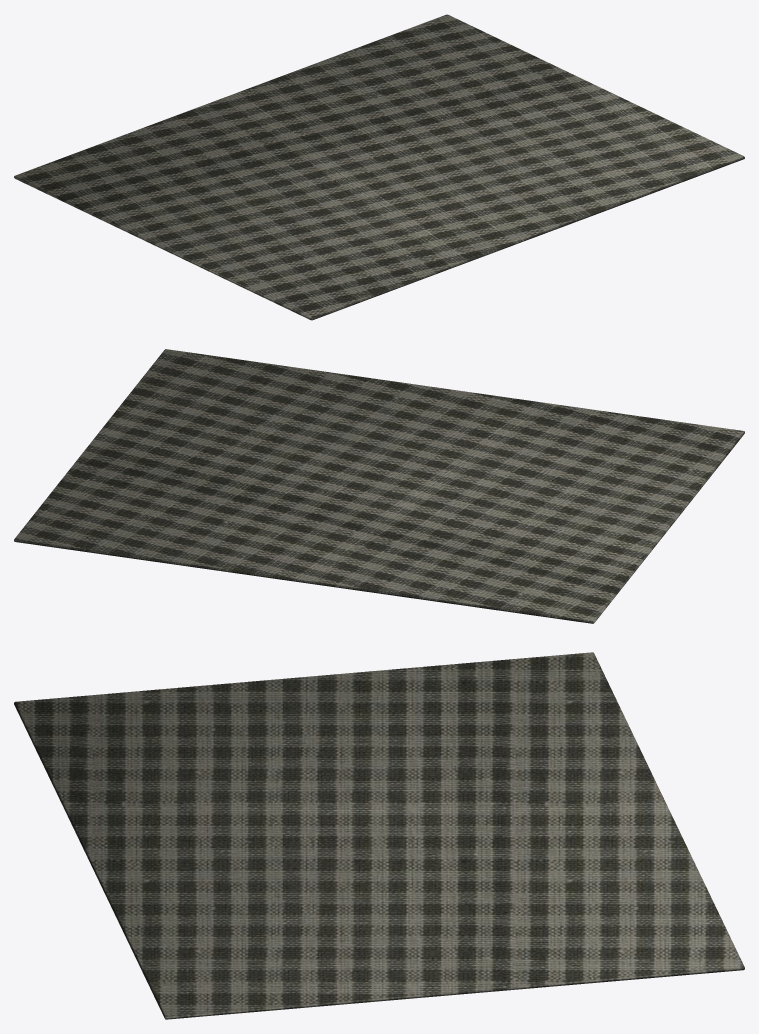
File: drop_cloth.glb
The picture shows the model from 3 angles, top to bottom: view 1: azimuth 30°, elevation 25°; view 2: azimuth 150°, elevation 25°; view 3: azimuth 270°, elevation 25°; orthographic projection. The views are drawn at different scales.
Visible parts, largest first — view 1: Drop cloth; view 2: Drop cloth; view 3: Drop cloth.
Boxes of the visible parts, <box> form: Drop cloth: <box>14,14,744,320</box>; Drop cloth: <box>14,349,744,623</box>; Drop cloth: <box>14,652,744,1019</box>.
Bounding box in the file's own units: 2.04 × 0.01 × 1.73.
Materials: 1 (1 with a texture image).
